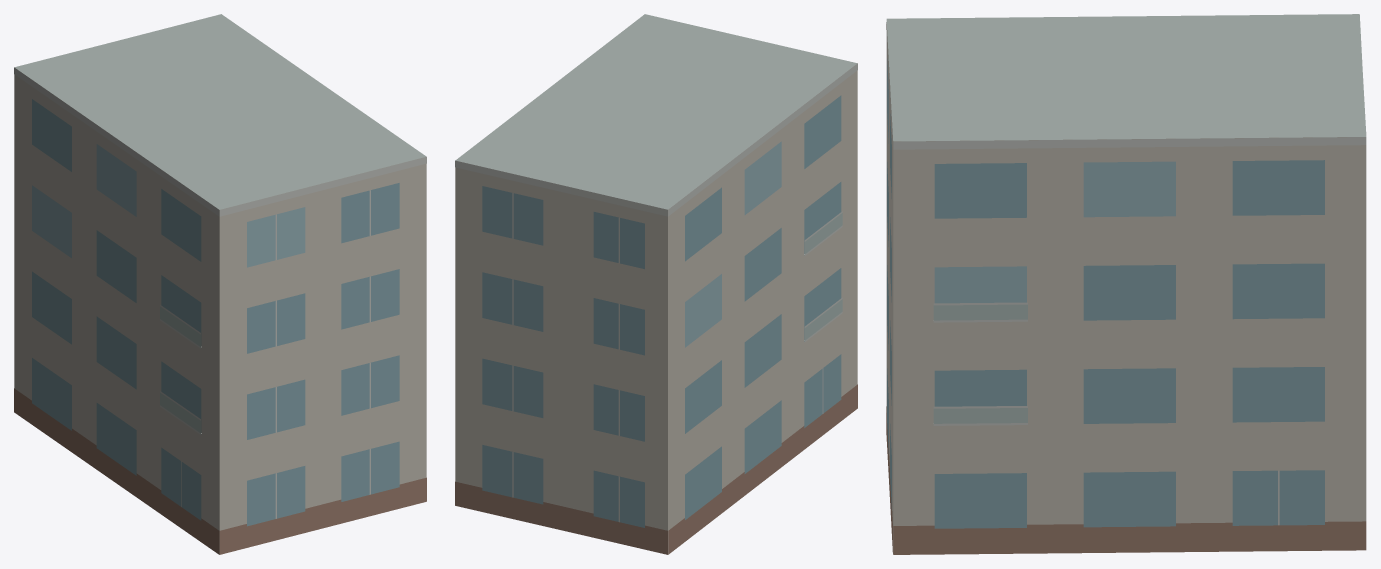
Rendered from residential-ac2195f6-d04d-45d3-8eeb-ef06f24748e2.glb.
3 views of the same model, side by side, from view 1: azimuth 30°, elevation 25°; view 2: azimuth 150°, elevation 25°; view 3: azimuth 270°, elevation 25° (orthographic). The views are drawn at different scales.
Parts seen in each view (by area): view 1: residential-ac2195f6-d04d-45d3-8eeb-ef06f24748e2.tmp; view 2: residential-ac2195f6-d04d-45d3-8eeb-ef06f24748e2.tmp; view 3: residential-ac2195f6-d04d-45d3-8eeb-ef06f24748e2.tmp.
Boxes of the visible parts, bbox=[...] form: residential-ac2195f6-d04d-45d3-8eeb-ef06f24748e2.tmp: bbox=[14, 14, 426, 554]; residential-ac2195f6-d04d-45d3-8eeb-ef06f24748e2.tmp: bbox=[455, 14, 857, 554]; residential-ac2195f6-d04d-45d3-8eeb-ef06f24748e2.tmp: bbox=[886, 14, 1366, 554].
Bounding box in the file's own units: 8.08 × 12.2 × 12.85.
